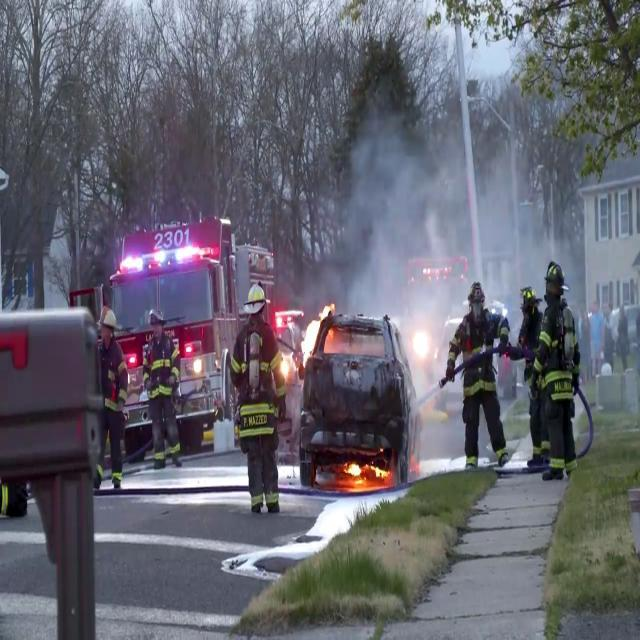Fire: (282, 302, 326, 379), (339, 455, 389, 490)
Smoke: (332, 77, 562, 330)
